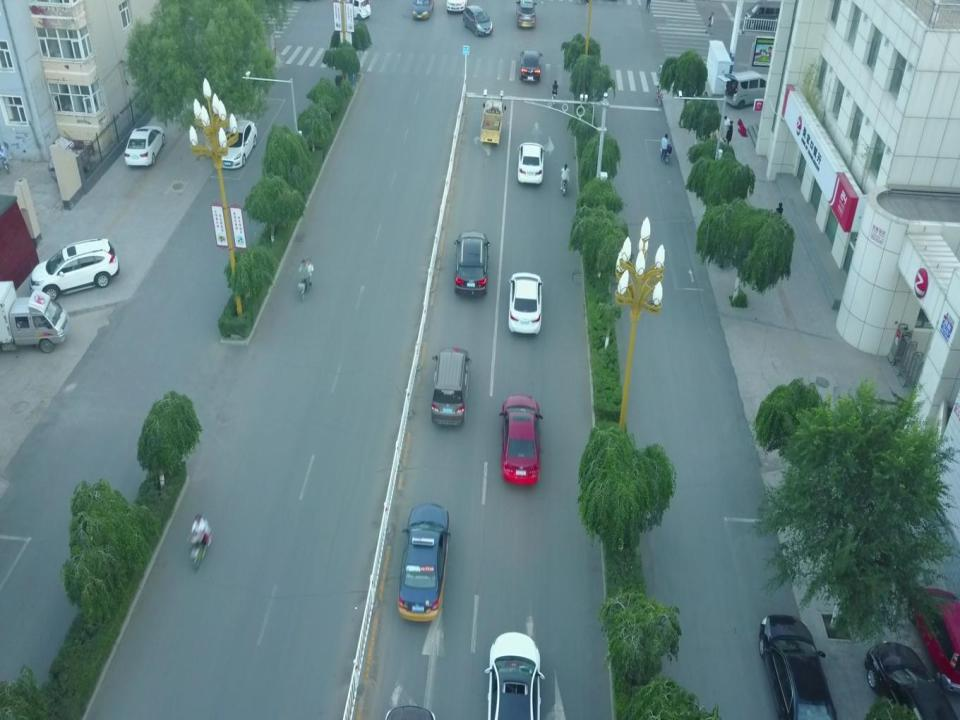car: (758, 614, 837, 720), (864, 641, 958, 720), (398, 504, 450, 622), (29, 238, 120, 300), (908, 588, 960, 695), (484, 631, 544, 720), (499, 395, 544, 485), (454, 231, 490, 296), (508, 272, 544, 334), (215, 121, 257, 168), (125, 125, 165, 166), (518, 142, 545, 185), (463, 6, 493, 36), (519, 50, 542, 83), (515, 0, 537, 28), (345, 0, 371, 21), (412, 0, 434, 20), (446, 0, 468, 13)
truck: (0, 280, 70, 353)
van: (430, 346, 472, 428), (718, 71, 774, 109), (743, 1, 787, 31)
